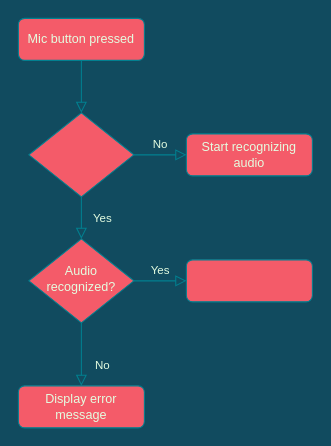
This 331x446 diagram has some shape labels left out. The box of each missing label's shape, as (x1, y1, x2, y2) in pixels:
Display text: (185, 259, 312, 302)
Mic on ?: (28, 112, 134, 197)
